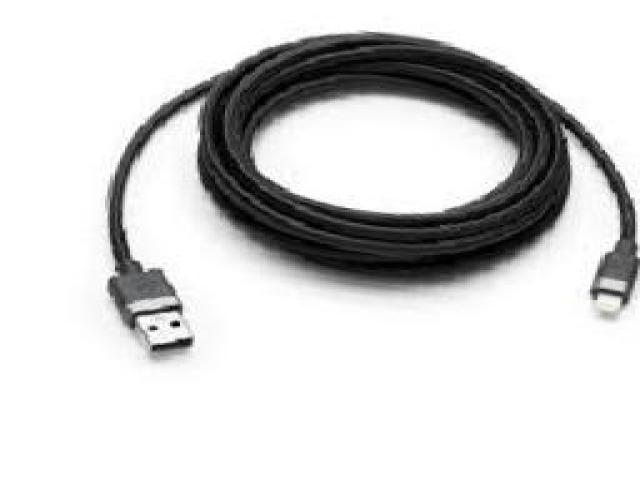wire: (102, 28, 638, 351)
